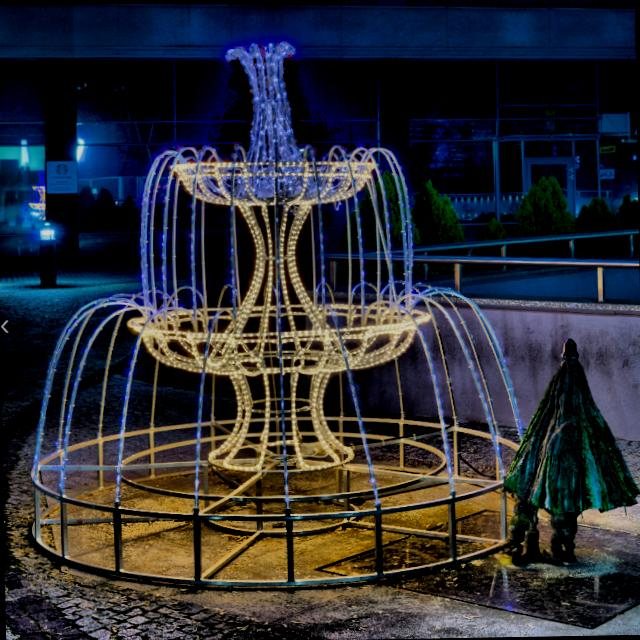Parasolniki: (498, 338, 640, 565)
